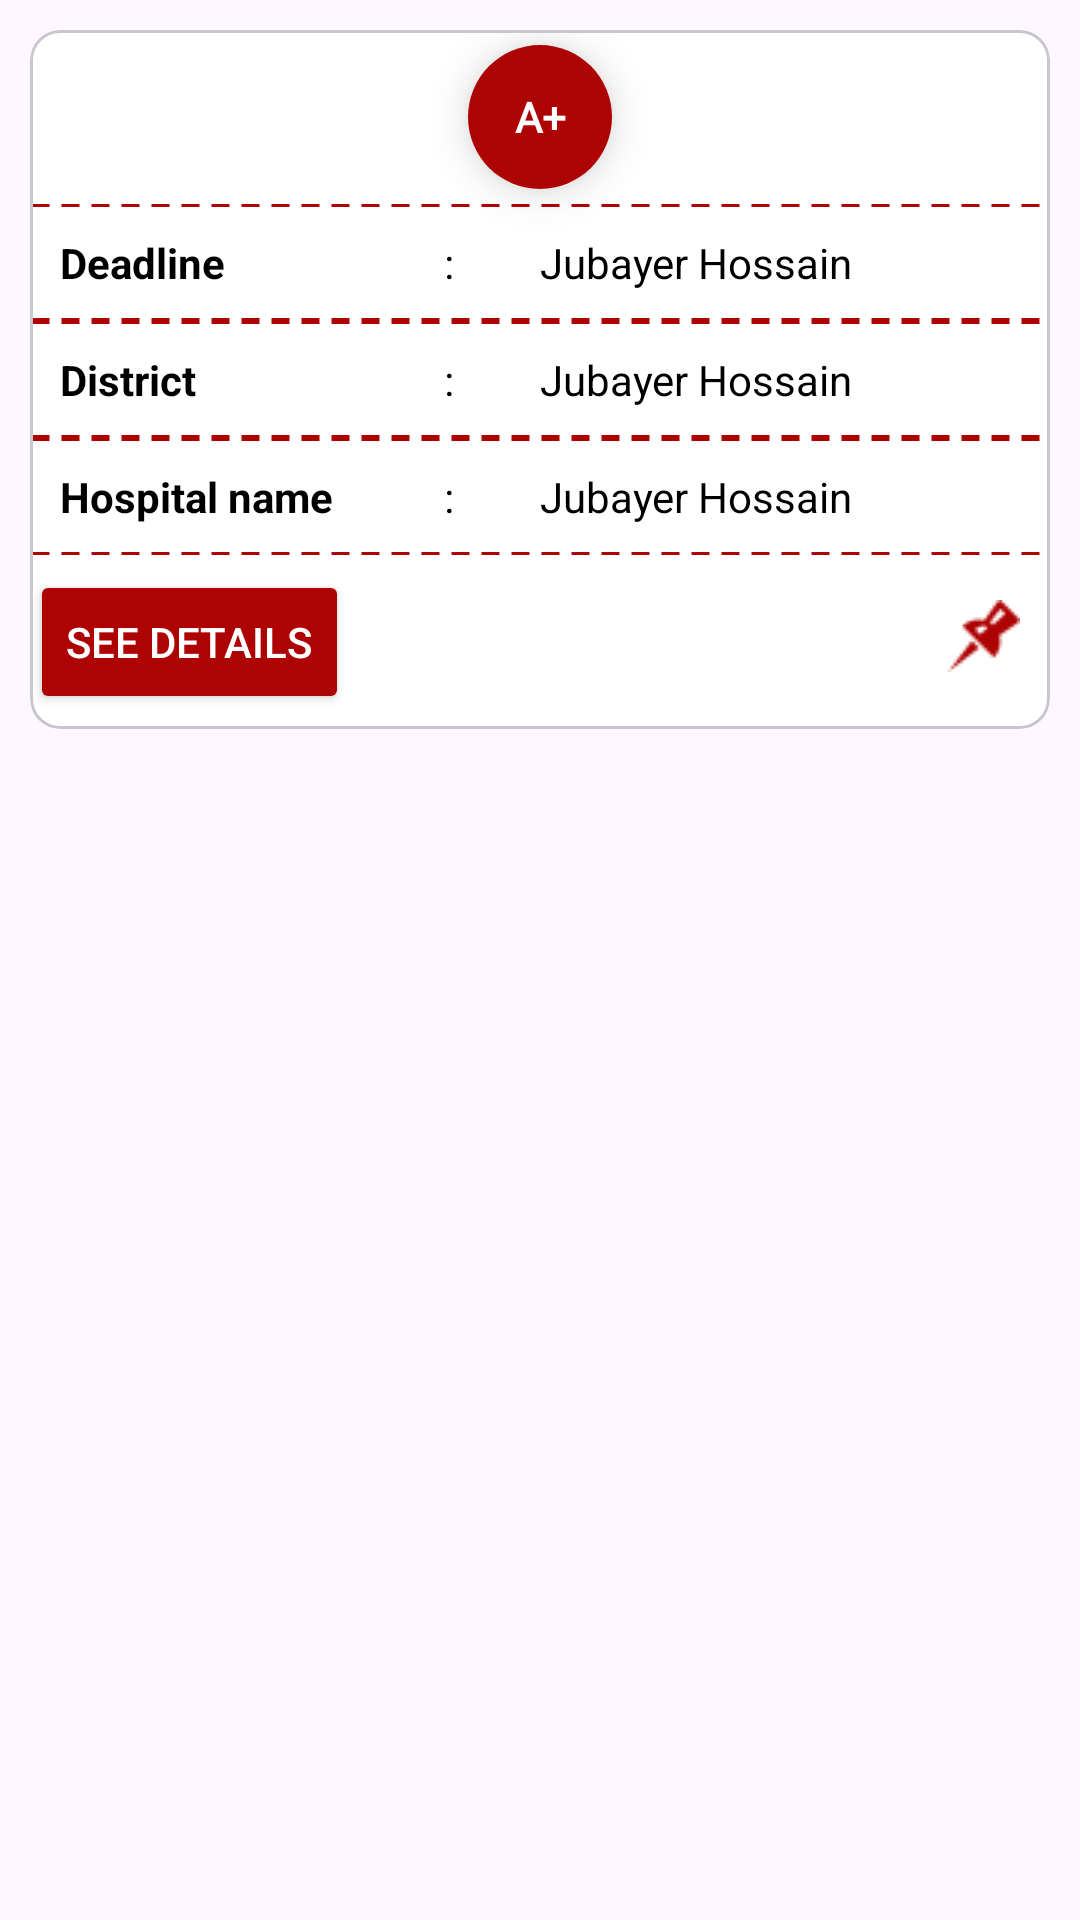

Screen size 1080x1920. Icon name, then its center in pixels as point (x, y):
pin: point (984, 636)
